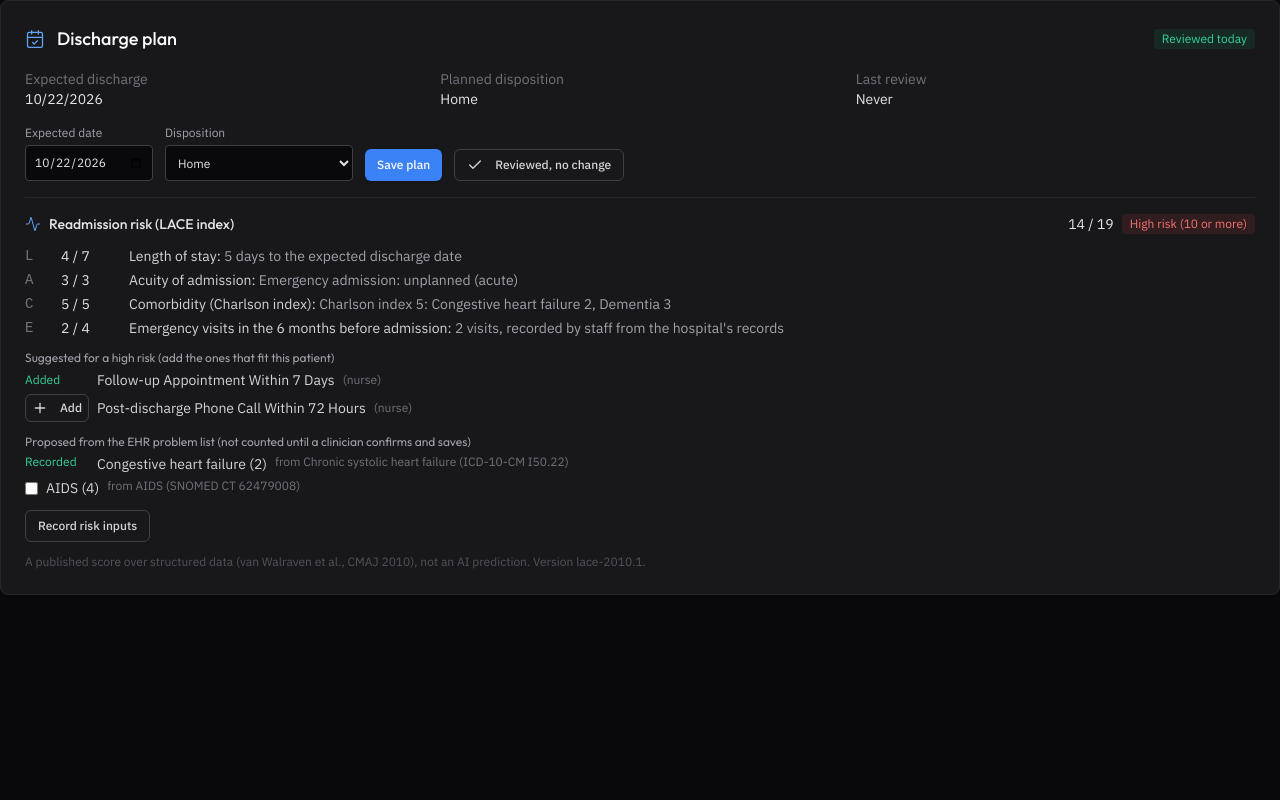
Readmission risk on the discharge plan › proposes Charlson flags from the EHR problem list, unchecked until the clinician confirms and saves
The width and height of the screenshot is (1280, 800).
Later steps or results of the test are not shown.
Expected: the heading "not counted until a clinician confirms" is shown, [25,434,471,449]
Expected: the list item with test id "risk-proposal-congestive_heart_failure" shows "from Chronic systolic heart failure (ICD-10-CM I50.22)", [25,454,569,473]
Click the checkbox with test id "risk-proposal-accept-aids" at (32, 488), box [25,482,38,495]
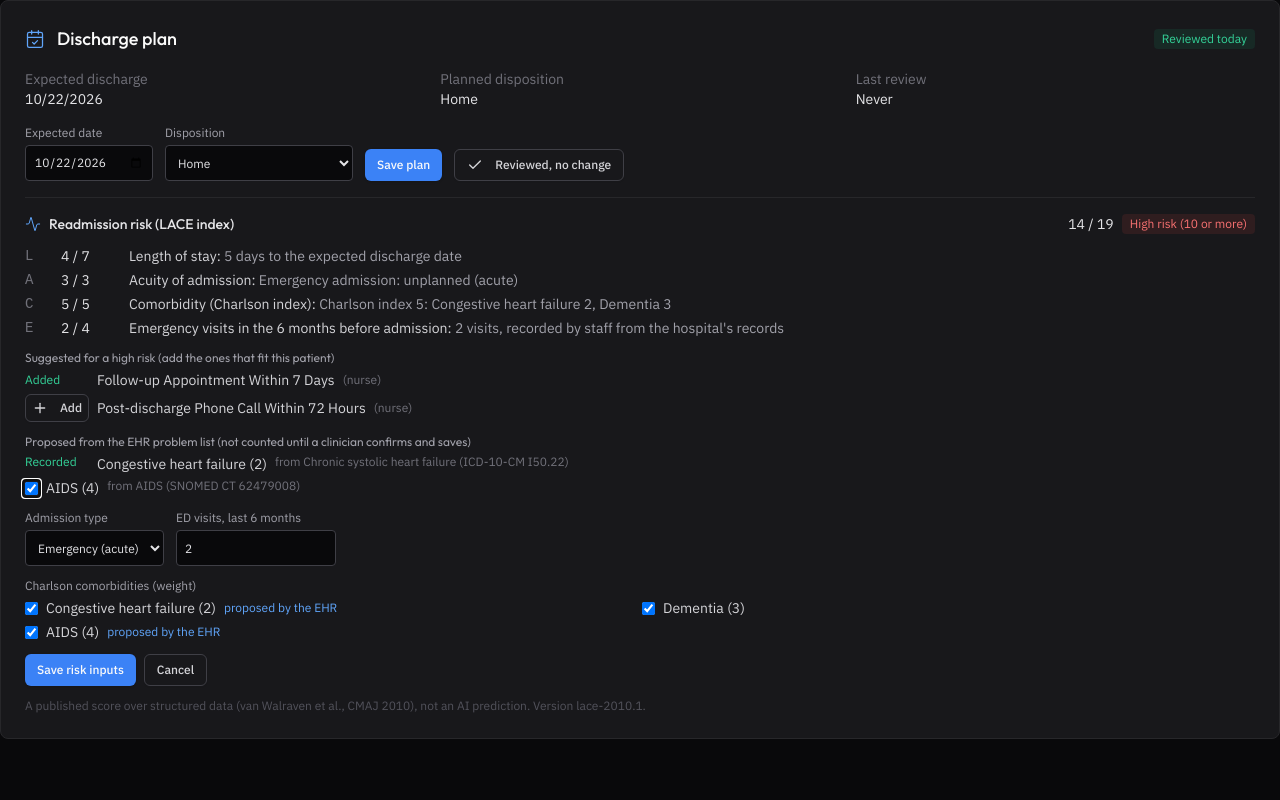
Now the checkbox with test id "risk-proposal-accept-aids" is checked, box [25,482,38,495]
Now the checkbox with test id "risk-comorbidity-aids" is checked, box [25,626,38,638]
Now the element with test id "risk-form" shows "proposed by the EHR", box [224,600,337,615]
